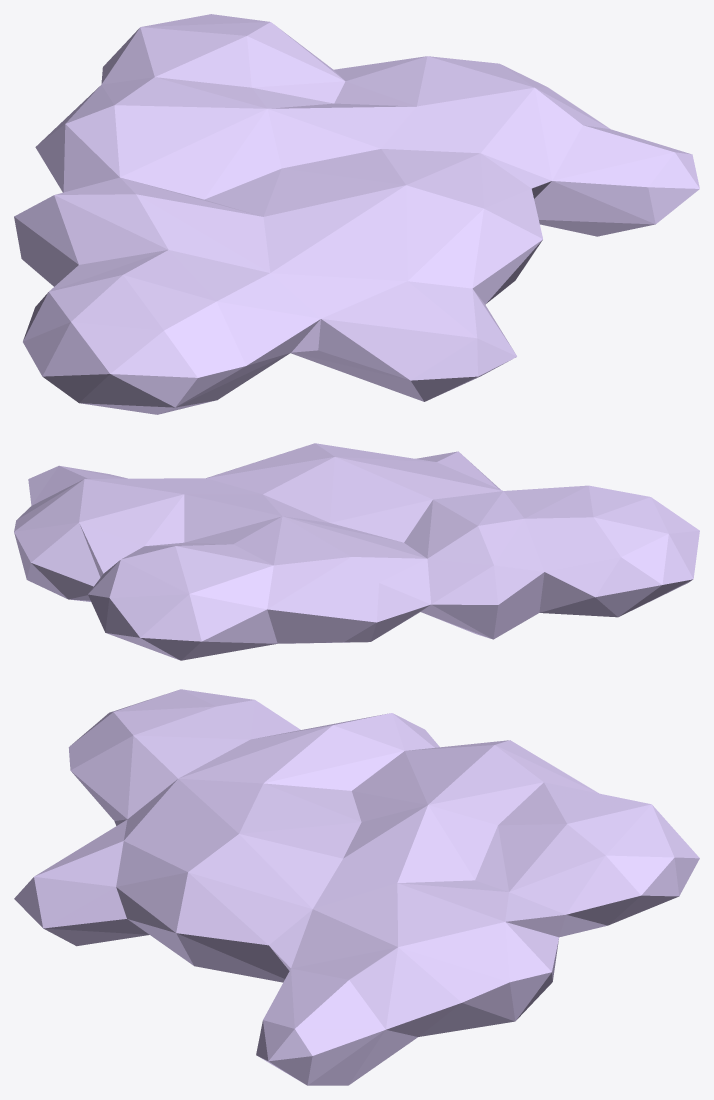
File: Cloud_3.glb
3 renders of one model, top to bottom at view 1: azimuth 30°, elevation 25°; view 2: azimuth 150°, elevation 25°; view 3: azimuth 270°, elevation 25°, orthographic. The views are drawn at different scales.
Parts seen in each view (by area): view 1: Cloud_03; view 2: Cloud_03; view 3: Cloud_03.
Part boxes in pixels (x1,y1,x2,y2): Cloud_03: [14, 14, 699, 414]; Cloud_03: [14, 443, 699, 660]; Cloud_03: [14, 689, 699, 1085].
Size of the model in its own units: 8.58 by 1.74 by 7.52.
